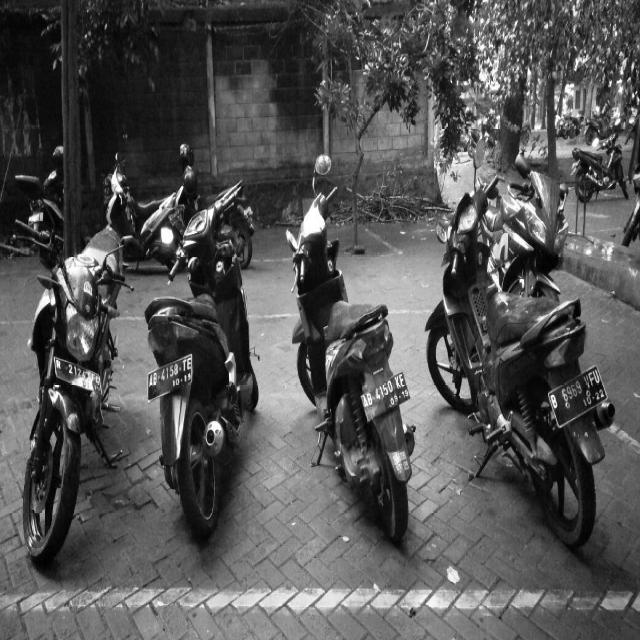license-plat: (135, 343, 198, 419), (354, 363, 414, 431)
p: (141, 343, 202, 407)
